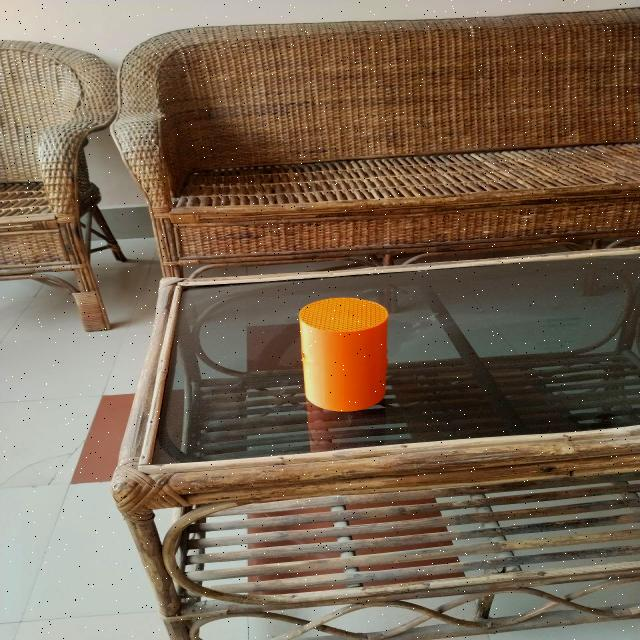Cylinder: (298, 296, 391, 412)
